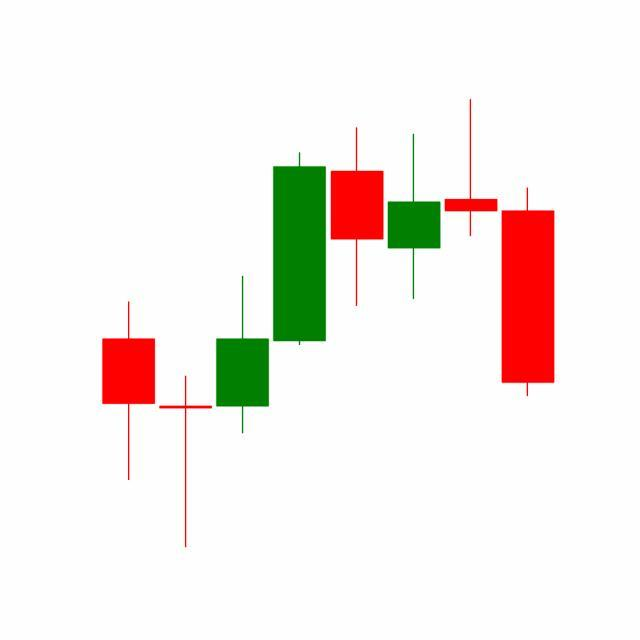Hikkake Pattern: (214, 99, 501, 439)
